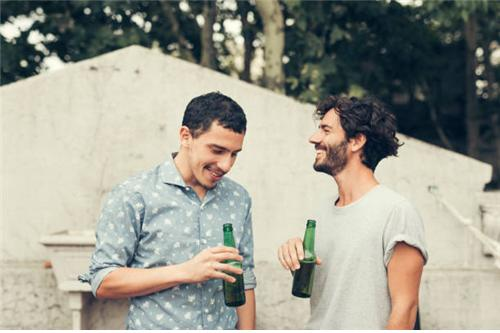alcohol: (291, 219, 317, 299), (222, 223, 245, 307)
